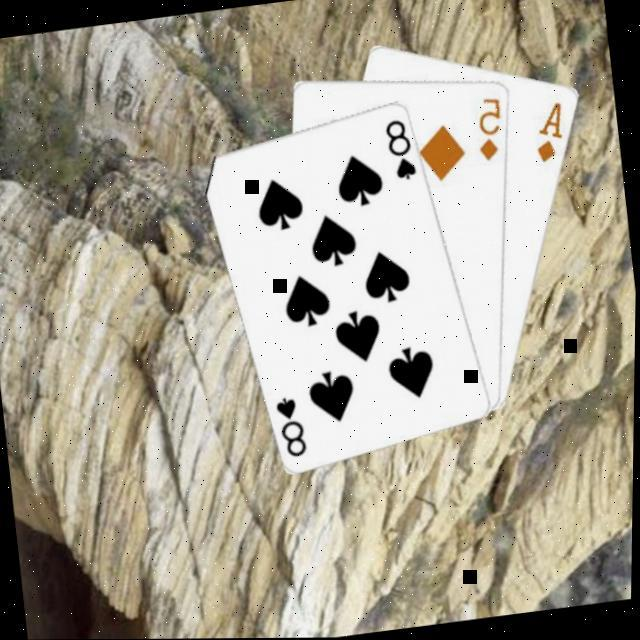5D: (472, 94, 513, 165)
8S: (274, 391, 316, 463), (382, 115, 423, 186)
AD: (530, 97, 574, 167)
